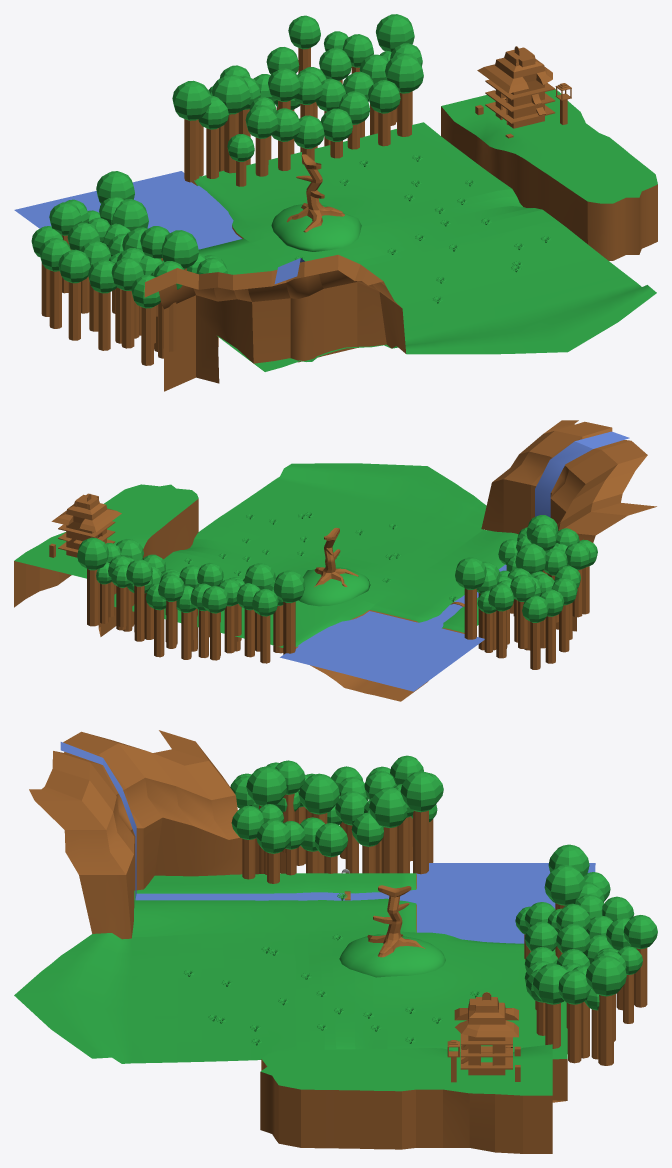
File: Level 1 11-18-15 v3.fbx
3 views of the same model, one above another, from view 1: azimuth 30°, elevation 25°; view 2: azimuth 150°, elevation 25°; view 3: azimuth 270°, elevation 25° (orthographic). The views are drawn at different scales.
Parts seen in each view (by area): view 1: Ground, pPlane2, Water, polySurface9, pSphere65, pSphere32, pSphere8, pSphere24, pSphere44, pSphere43, pSphere53, pSphere52 (+30 smaller); view 2: Ground, pPlane2, Water, polySurface9, pSphere65, pSphere16, pSphere32, pSphere48, pSphere26, pSphere27, pSphere28, pSphere29 (+28 smaller); view 3: Ground, pPlane2, Water, polySurface9, pSphere65, pSphere16, pSphere48, pSphere40, pSphere8, pSphere15, pSphere26, Hill_Tree (+20 smaller).
Part boxes in pixels (bbox=[...]): Ground: bbox=[192, 89, 657, 371]; pPlane2: bbox=[144, 254, 406, 391]; Water: bbox=[14, 171, 304, 283]; polySurface9: bbox=[475, 46, 571, 138]; pSphere65: bbox=[271, 204, 361, 251]; pSphere32: bbox=[172, 80, 211, 182]; pSphere8: bbox=[385, 53, 423, 136]; pSphere24: bbox=[212, 74, 250, 173]; pSphere44: bbox=[58, 249, 90, 340]; pSphere43: bbox=[111, 257, 143, 348]; pSphere53: bbox=[88, 260, 116, 350]; pSphere52: bbox=[39, 238, 70, 328]; Ground: bbox=[14, 463, 518, 701]; pPlane2: bbox=[481, 420, 656, 631]; Water: bbox=[280, 431, 629, 691]; polySurface9: bbox=[49, 494, 121, 557]; pSphere65: bbox=[299, 567, 370, 606]; pSphere16: bbox=[77, 537, 108, 626]; pSphere32: bbox=[273, 570, 305, 654]; pSphere48: bbox=[455, 557, 486, 639]; pSphere26: bbox=[126, 559, 152, 633]; pSphere27: bbox=[158, 574, 184, 648]; pSphere28: bbox=[201, 586, 228, 660]; pSphere29: bbox=[252, 589, 278, 663]; Ground: bbox=[14, 873, 567, 1153]; pPlane2: bbox=[29, 730, 242, 939]; Water: bbox=[60, 742, 595, 943]; polySurface9: bbox=[447, 992, 520, 1082]; pSphere65: bbox=[339, 934, 445, 977]; pSphere16: bbox=[585, 955, 626, 1065]; pSphere48: bbox=[400, 771, 441, 874]; pSphere40: bbox=[369, 787, 407, 873]; pSphere8: bbox=[532, 963, 567, 1048]; pSphere15: bbox=[558, 970, 591, 1063]; pSphere26: bbox=[623, 915, 657, 1007]; Hill_Tree: bbox=[367, 885, 425, 957].
Size of the model in its own units: 483 by 132 by 445.
